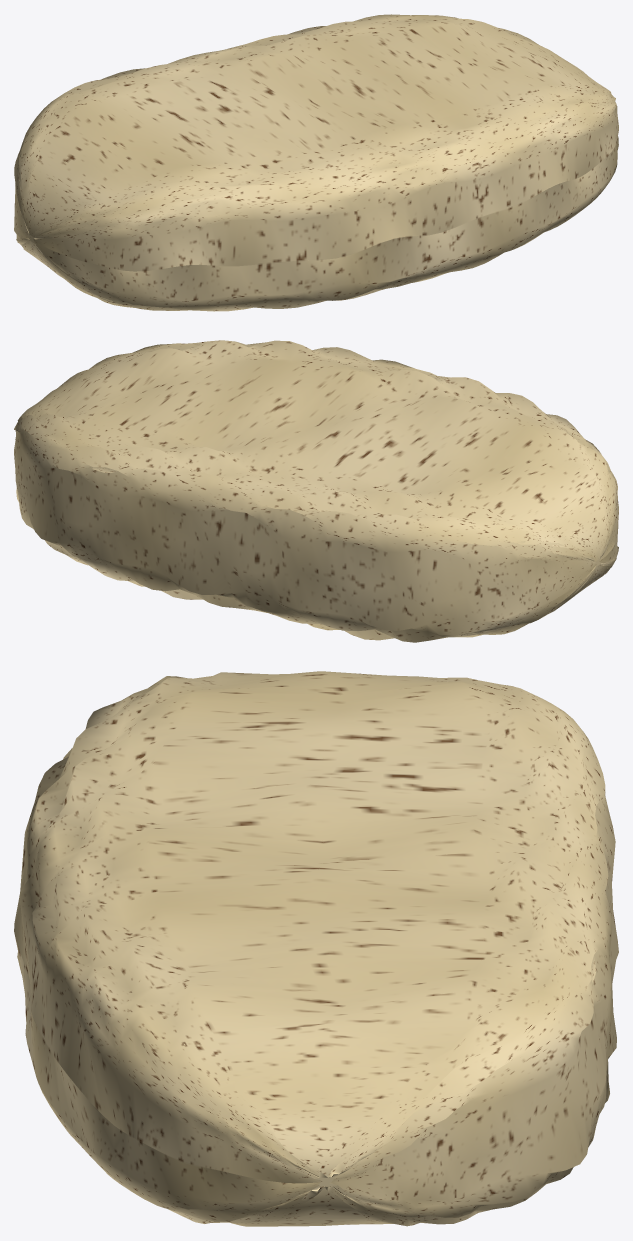
File: potato.glb
3 renders of one model, top to bottom at view 1: azimuth 30°, elevation 25°; view 2: azimuth 150°, elevation 25°; view 3: azimuth 270°, elevation 25°, orthographic. The views are drawn at different scales.
Visible parts, largest first — view 1: potato; view 2: potato; view 3: potato.
Boxes of the visible parts, <box> form: potato: <box>14,14,618,311</box>; potato: <box>14,340,618,642</box>; potato: <box>14,671,618,1226</box>.
Bounding box in the file's own units: 2.08 × 0.5138 × 1.19.
1 material, 1 textured.
